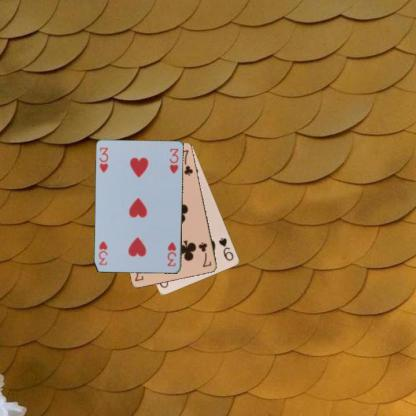3h: (96, 145, 110, 174), (165, 239, 177, 268)
7c: (196, 240, 212, 269)
9s: (216, 235, 235, 262)
